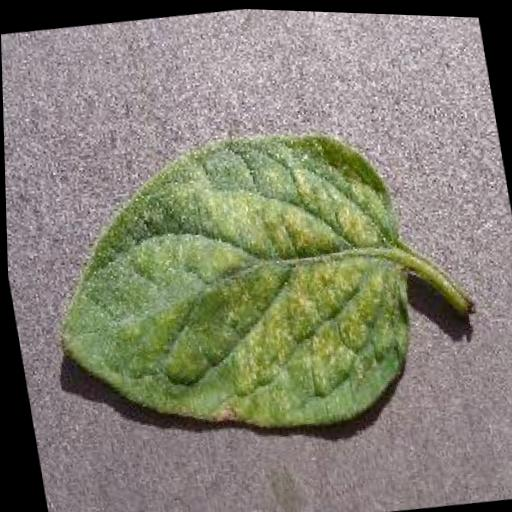Spider Mites: (26, 105, 428, 459)
